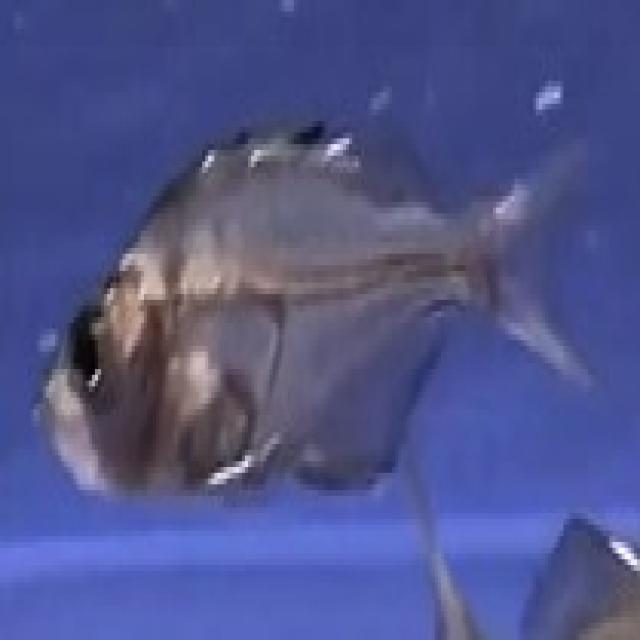Glass-Perchlet: (27, 51, 594, 575)
